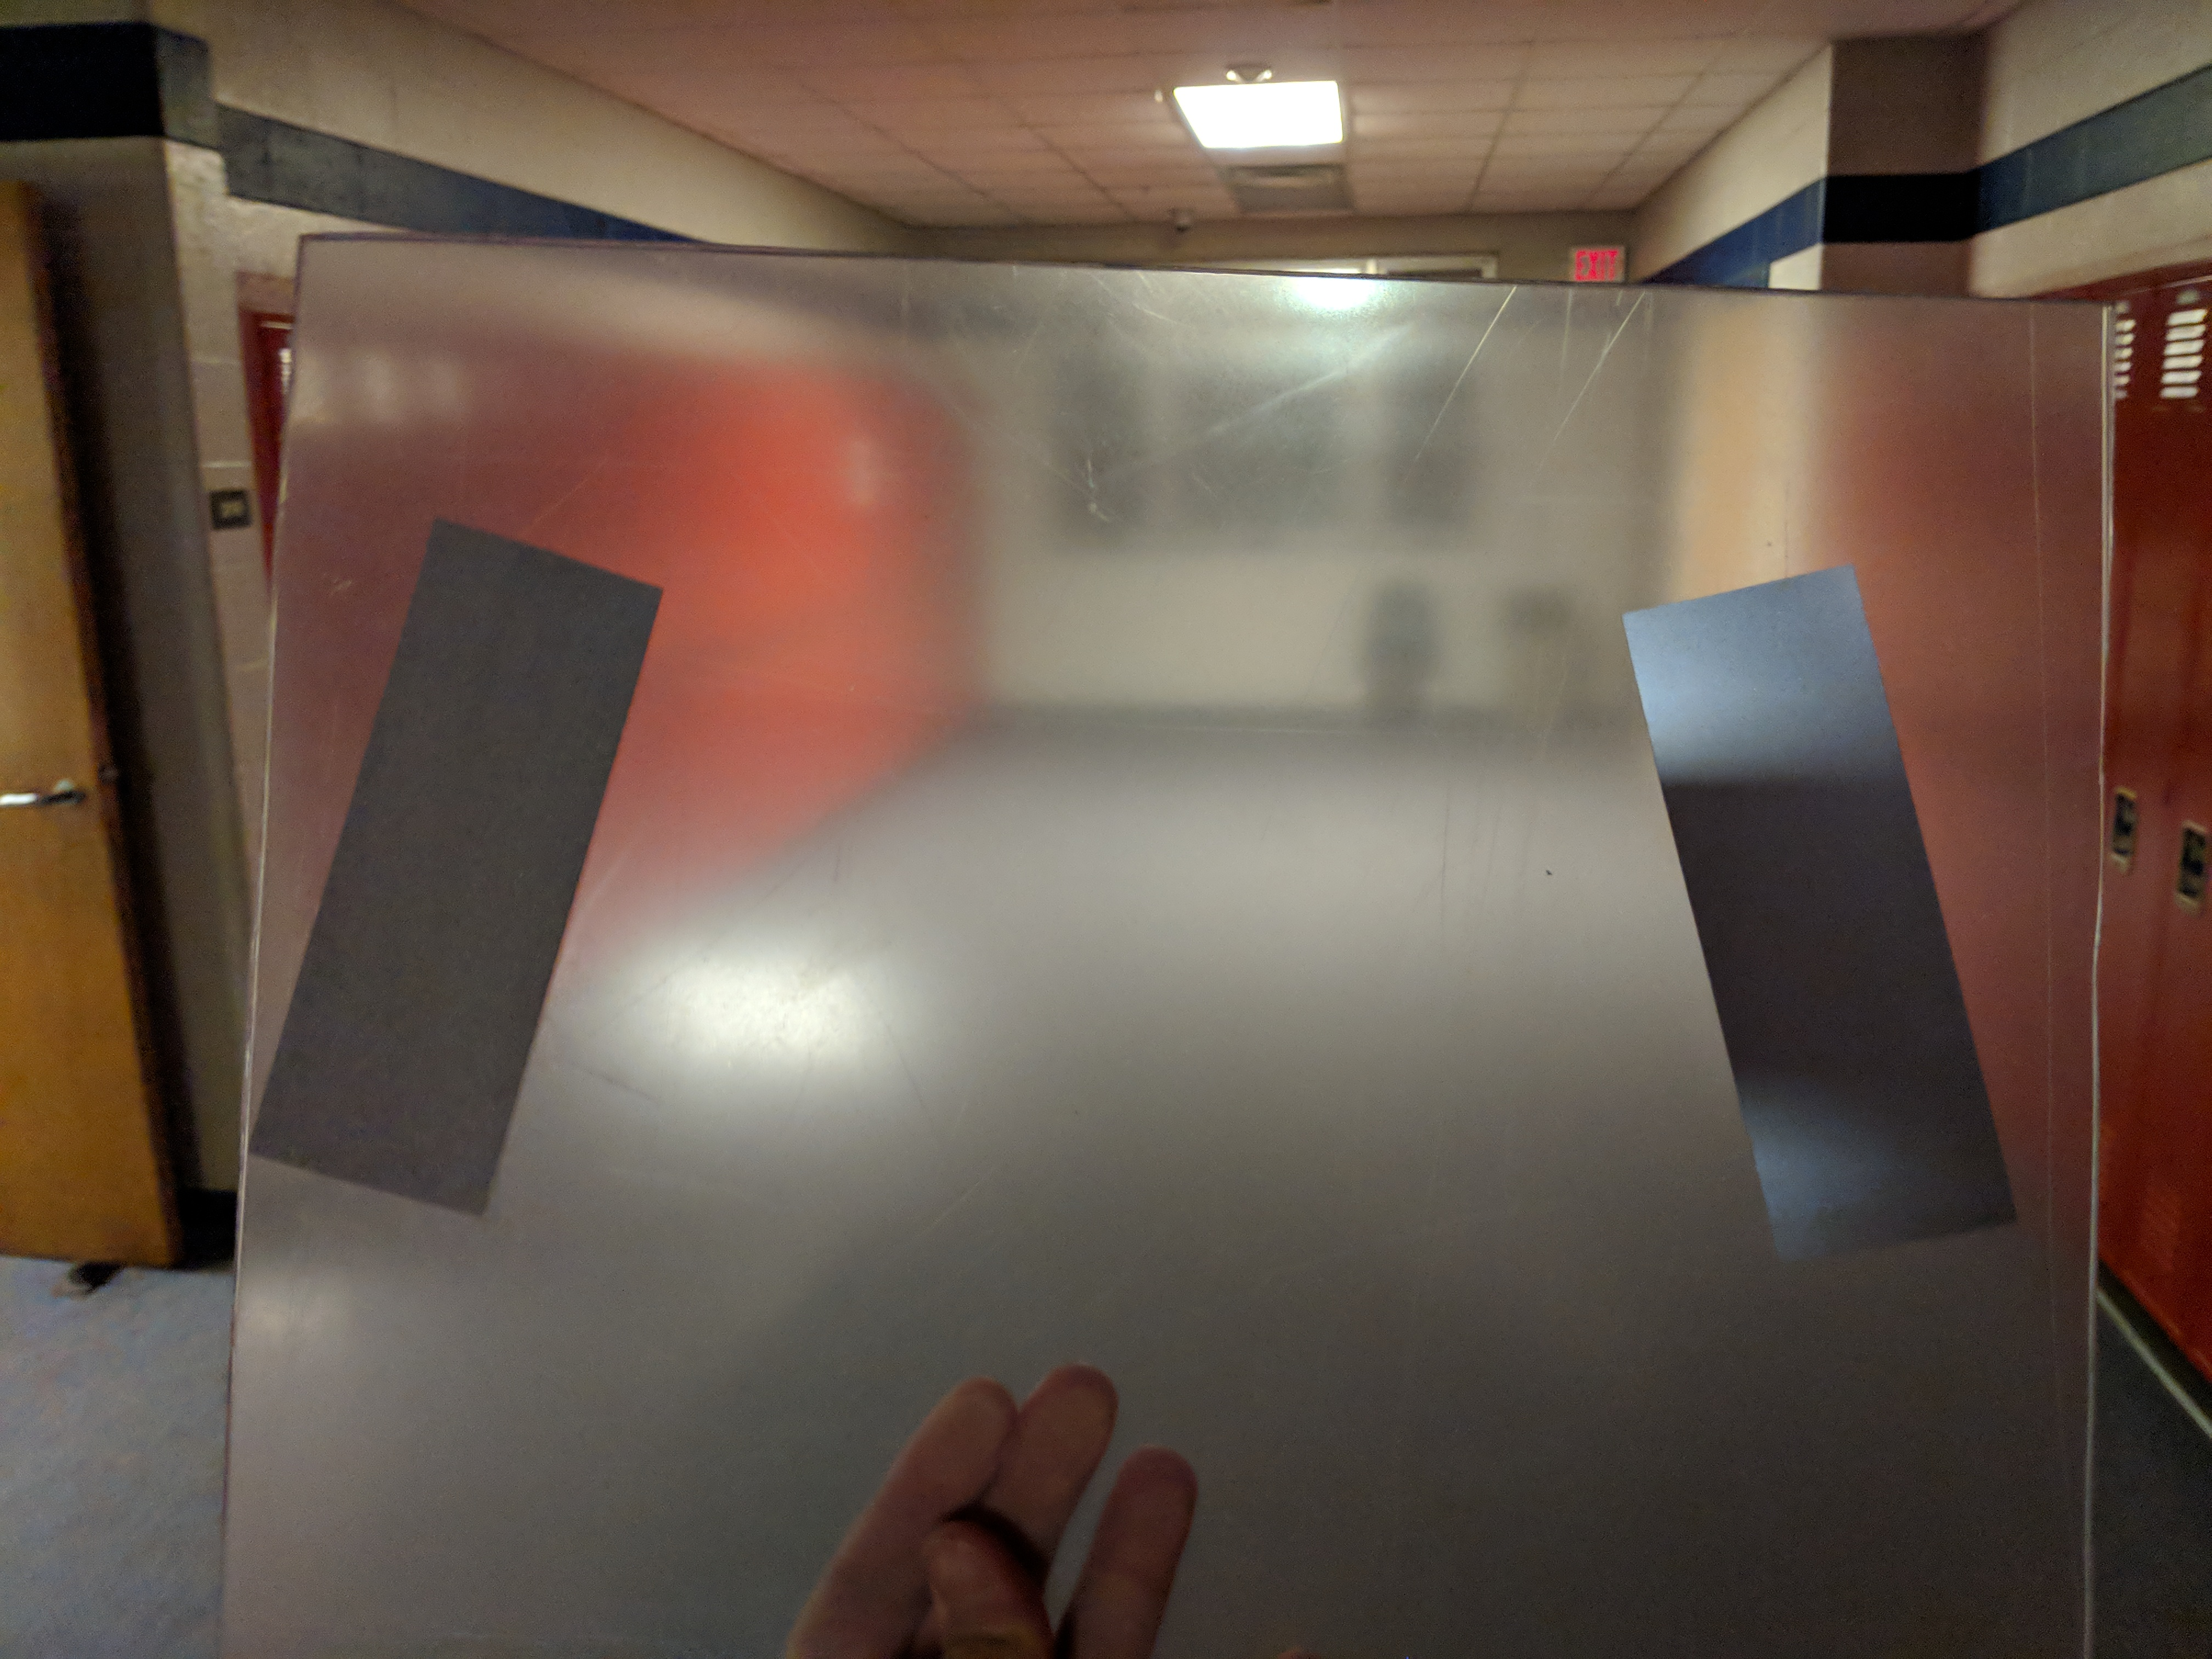vision_target: (221, 507, 2033, 1270)
